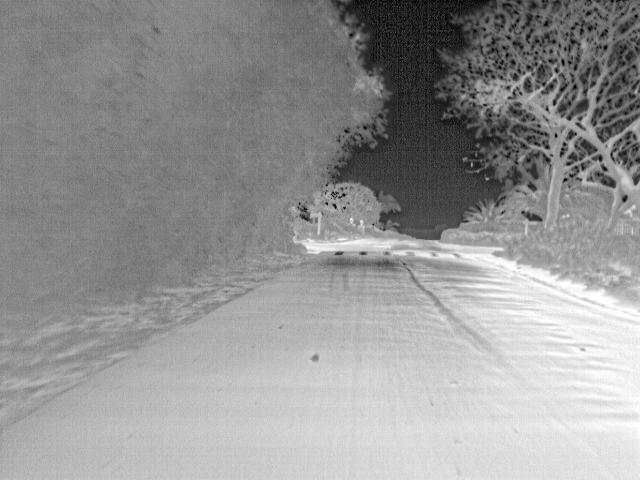person: (356, 219, 366, 239), (347, 218, 356, 239)
